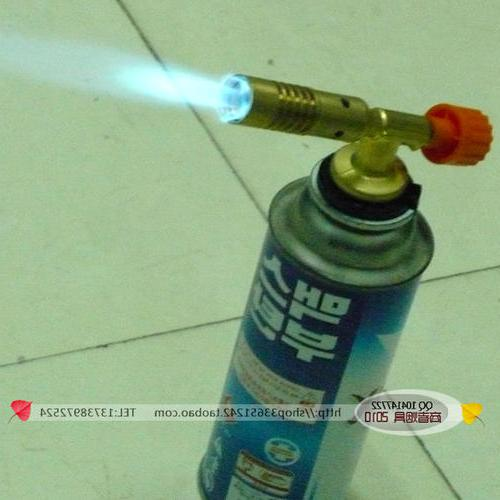fire: (70, 30, 253, 141)
